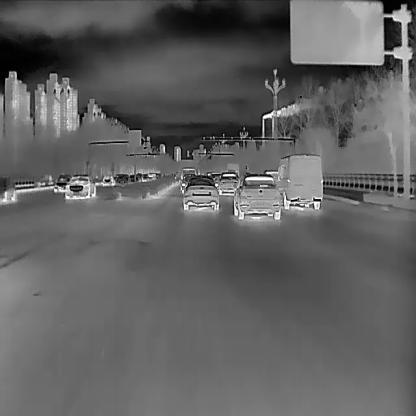car: (276, 155, 323, 210), (233, 174, 280, 218), (182, 177, 218, 212), (65, 174, 94, 198), (215, 171, 241, 195), (0, 174, 15, 203), (179, 166, 195, 189), (55, 173, 72, 193), (114, 173, 129, 189), (209, 172, 222, 188), (101, 173, 113, 187)
